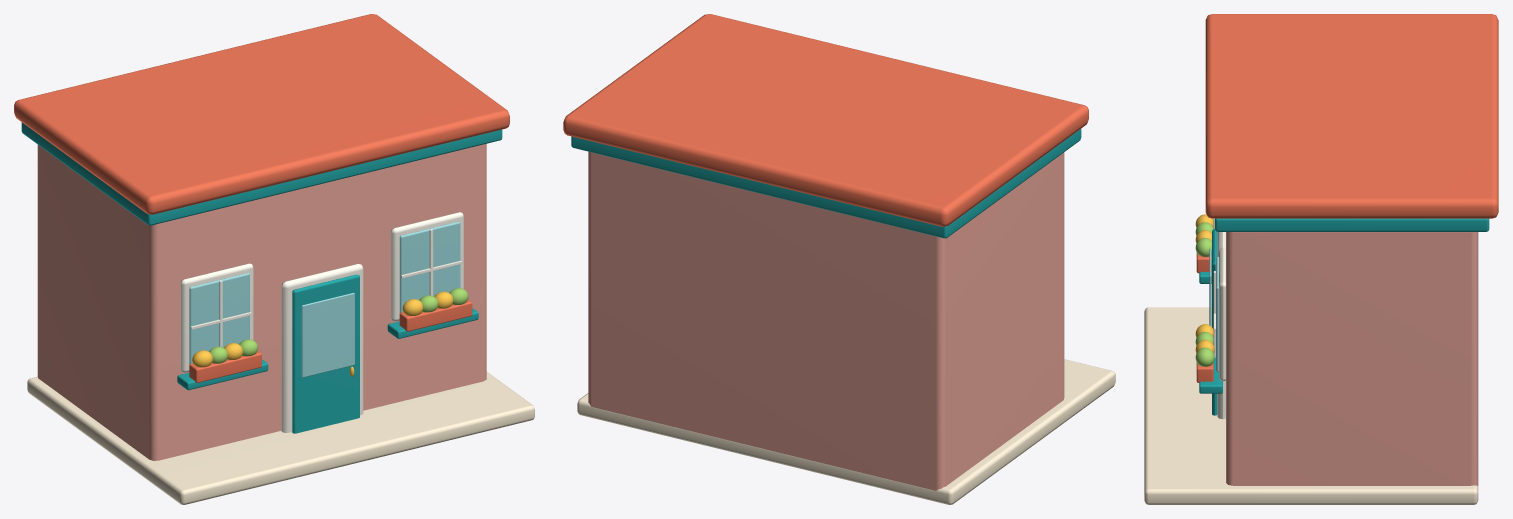
The model's file is Home.fbx.
3 views of the same model, side by side, from view 1: azimuth 30°, elevation 25°; view 2: azimuth 150°, elevation 25°; view 3: azimuth 270°, elevation 25° (orthographic). The views are drawn at different scales.
Visible parts, largest first — view 1: GEO-Facade, GEO-Roof, GEO-Foundation, GEO-Door, GEO-Cornice, GEO-DoorGlass, GEO-Window.001, GEO-Window, GEO-DoorFrame, GEO-WindowFrame, GEO-WindowFrame.001, GEO-FlowerBox.001 (+3 smaller); view 2: GEO-Facade, GEO-Roof, GEO-Foundation, GEO-Cornice; view 3: GEO-Facade, GEO-Roof, GEO-Foundation, GEO-Cornice, GEO-WindowFrame.001, GEO-Door, GEO-DoorFrame, GEO-WindowLedge.001.
Boxes of the visible parts, <box> form: GEO-Facade: <box>37,144,486,460</box>; GEO-Roof: <box>14,14,509,214</box>; GEO-Foundation: <box>27,372,534,504</box>; GEO-Door: <box>292,274,359,433</box>; GEO-Cornice: <box>21,122,502,225</box>; GEO-DoorGlass: <box>301,293,354,377</box>; GEO-Window.001: <box>399,221,460,312</box>; GEO-Window: <box>189,273,249,364</box>; GEO-DoorFrame: <box>281,264,363,432</box>; GEO-WindowFrame: <box>180,263,253,372</box>; GEO-WindowFrame.001: <box>391,212,463,321</box>; GEO-FlowerBox.001: <box>399,299,472,331</box>; GEO-Facade: <box>588,151,1064,490</box>; GEO-Roof: <box>563,14,1088,226</box>; GEO-Foundation: <box>577,359,1115,504</box>; GEO-Cornice: <box>571,129,1081,238</box>; GEO-Facade: <box>1226,232,1478,485</box>; GEO-Roof: <box>1205,14,1498,218</box>; GEO-Foundation: <box>1144,307,1478,504</box>; GEO-Cornice: <box>1215,218,1489,231</box>; GEO-WindowFrame.001: <box>1219,247,1225,381</box>; GEO-Door: <box>1212,229,1217,415</box>; GEO-DoorFrame: <box>1217,232,1225,419</box>; GEO-WindowLedge.001: <box>1199,357,1222,393</box>.
Bounding box in the file's own units: 6.05 × 4.58 × 4.78.
